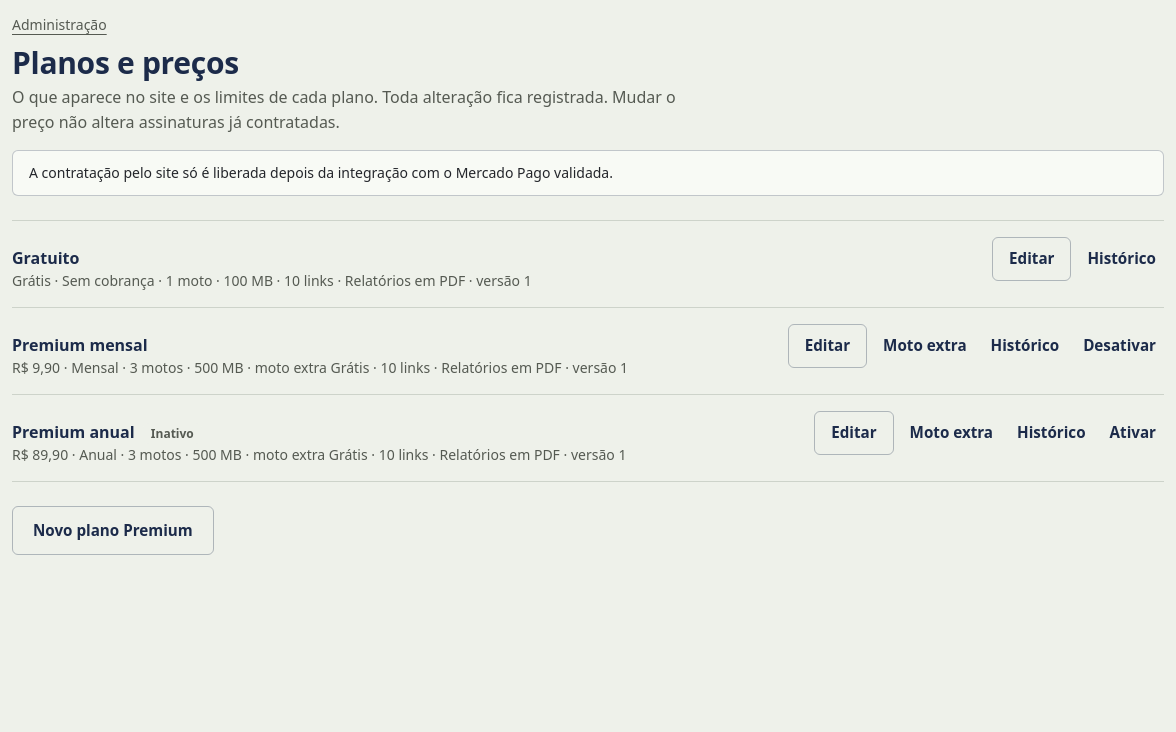
Test case: administração de planos › reativa plano e mostra o histórico com o que mudou
The image size is (1176, 732).
What coordinates should you click on to do the following:
click the button "Ativar"
I would click on:
 (1133, 433)
Its box is 1102,411 -> 1164,455.
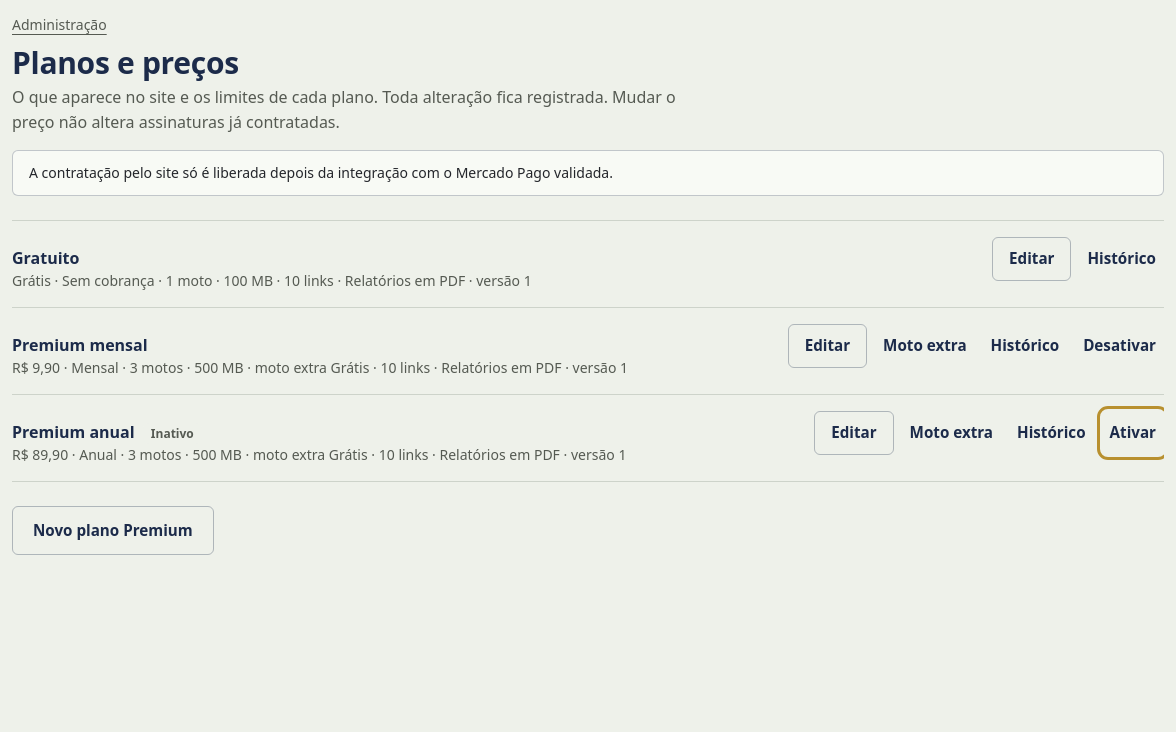
What coordinates should you click on to do the following:
click the button "Histórico" in the row of "Premium mensal"
I would click on:
 (1025, 346)
Its box is 983,324 -> 1067,368.
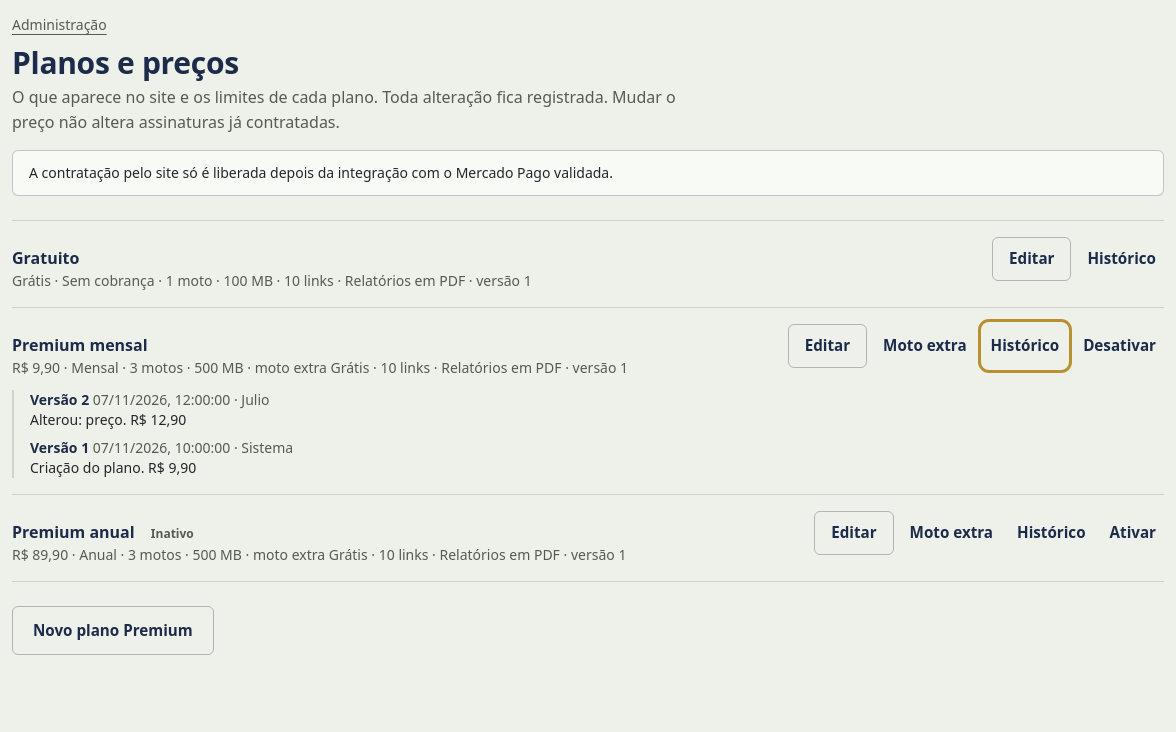
Expected: the text "Alterou: preço. R$ 12,90" is shown, 30,410 -> 186,429
Expected: the text "Criação do plano. R$ 9,90" is shown, 30,458 -> 196,477
